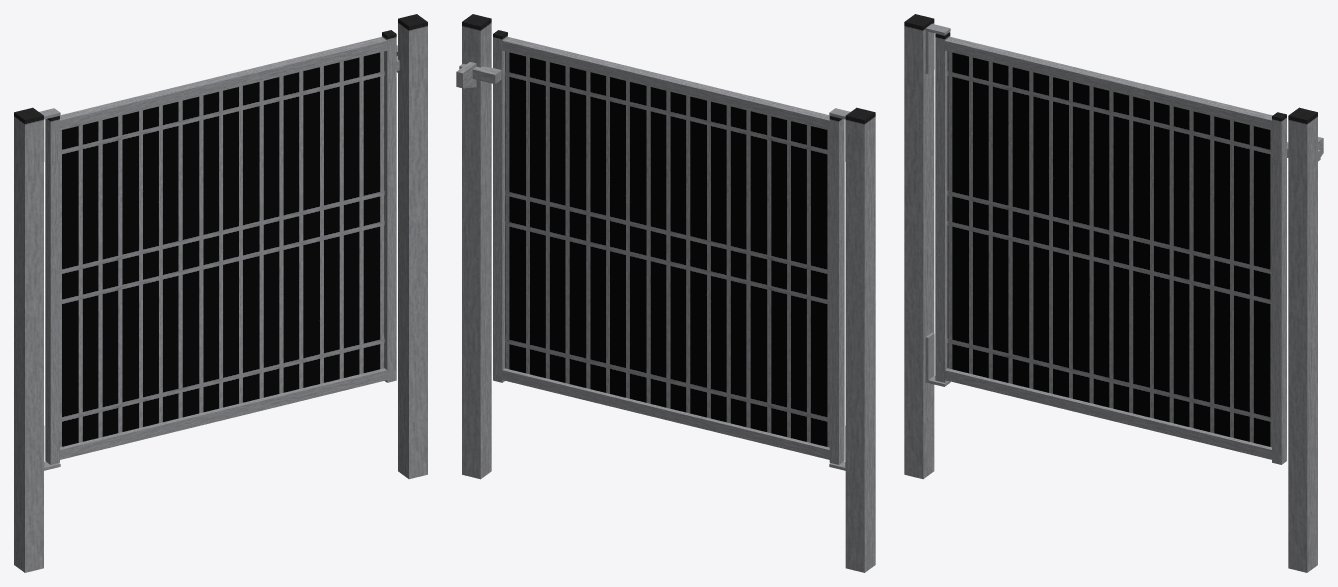
Rendered from fence-mesh-grey-gate-1p2m-cbj_LOD00.gltf.
3 renders of one model, left to right at view 1: azimuth 30°, elevation 25°; view 2: azimuth 150°, elevation 25°; view 3: azimuth 330°, elevation 25°, orthographic.
Parts seen in each view (by area): view 1: post; view 2: post; view 3: post.
Part boxes in pixels (x1,y1,x2,y2): post: [14, 14, 427, 572]; post: [456, 14, 875, 572]; post: [904, 14, 1323, 572].
Size of the model in its own units: 1.49 by 1.6 by 0.1573.
